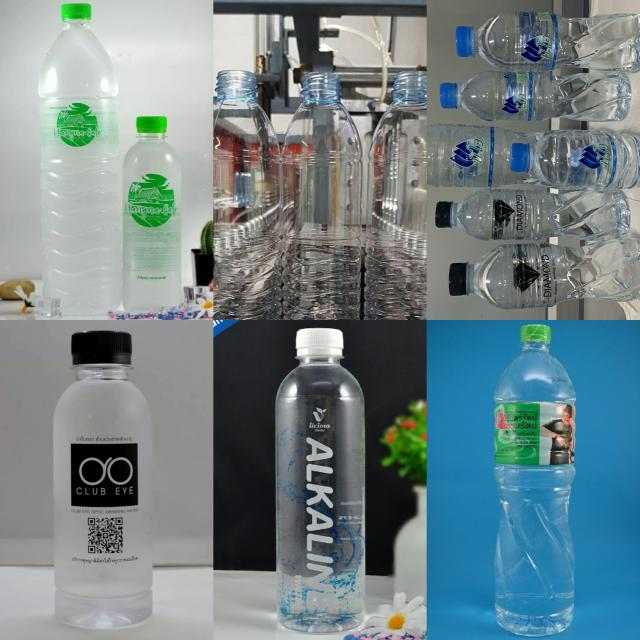plastik: (54, 330, 152, 629), (275, 328, 365, 632), (39, 5, 122, 315), (494, 324, 576, 636), (281, 71, 362, 319), (214, 70, 281, 319), (362, 74, 424, 322), (449, 238, 640, 309), (122, 116, 181, 312), (456, 11, 640, 71), (435, 189, 630, 240), (440, 71, 631, 121), (510, 130, 640, 190)
